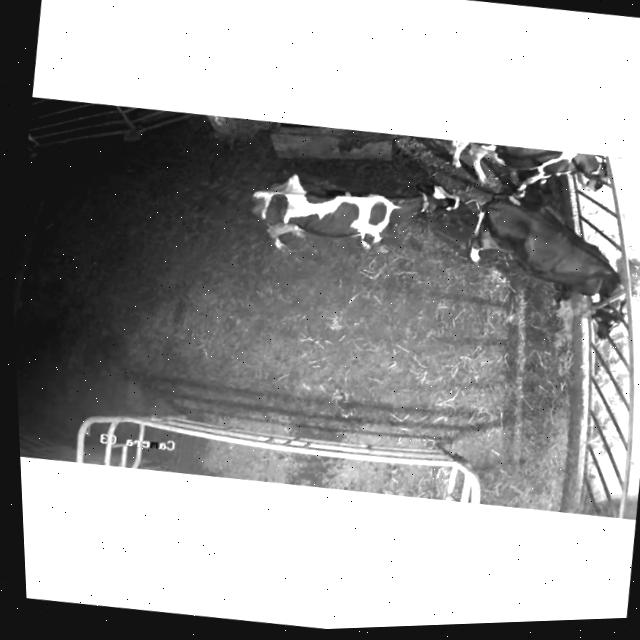stand: (236, 150, 474, 283)
